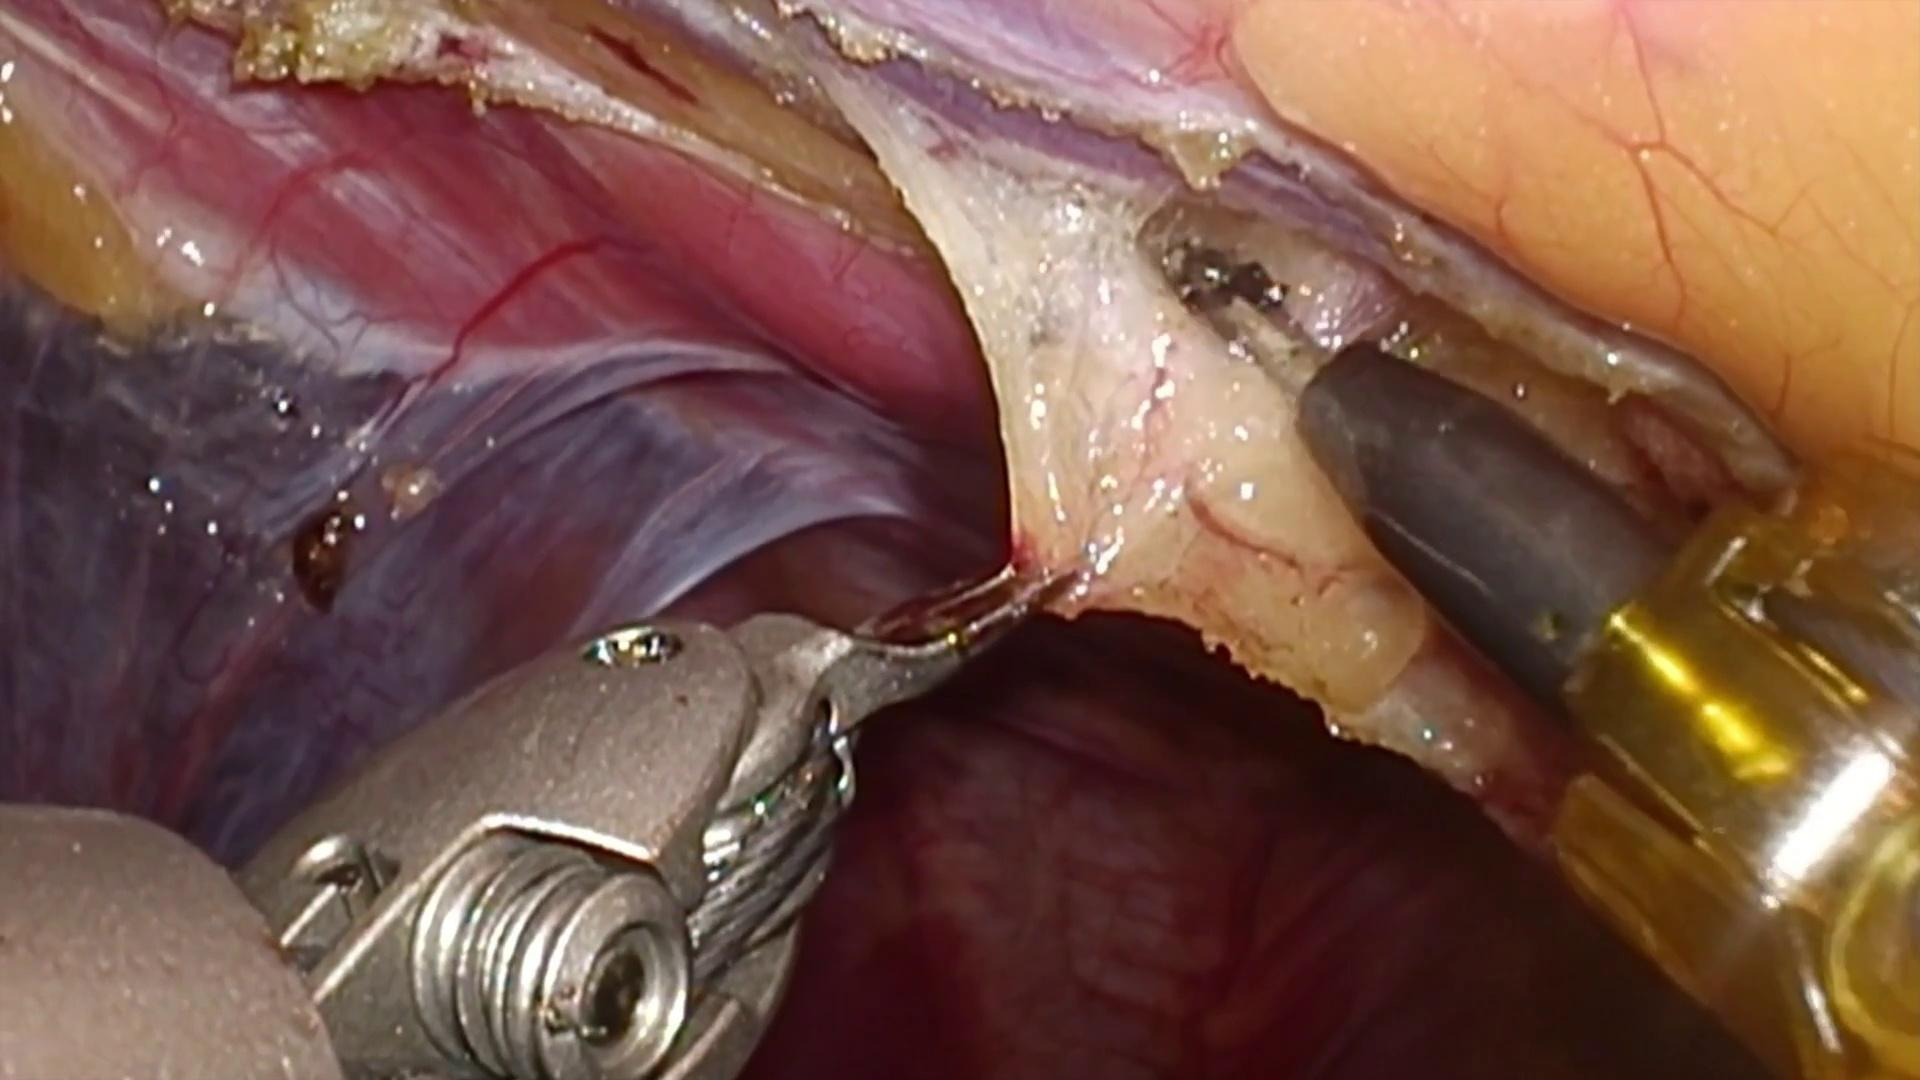Cautery_Spatula: (1166, 248, 1672, 707)
Debakey: (717, 538, 1035, 733)
